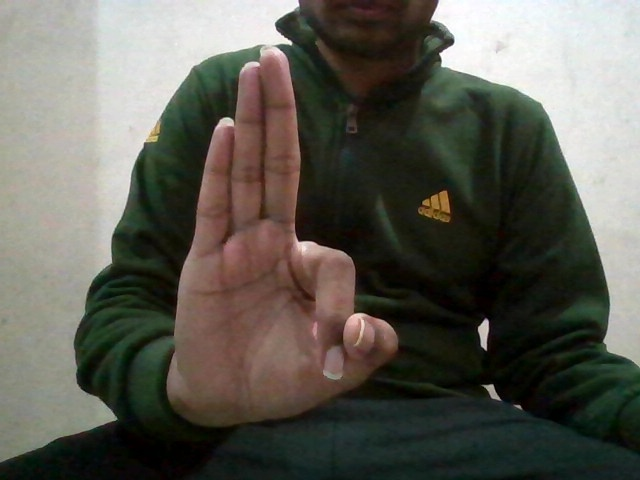F: (168, 43, 402, 425)
